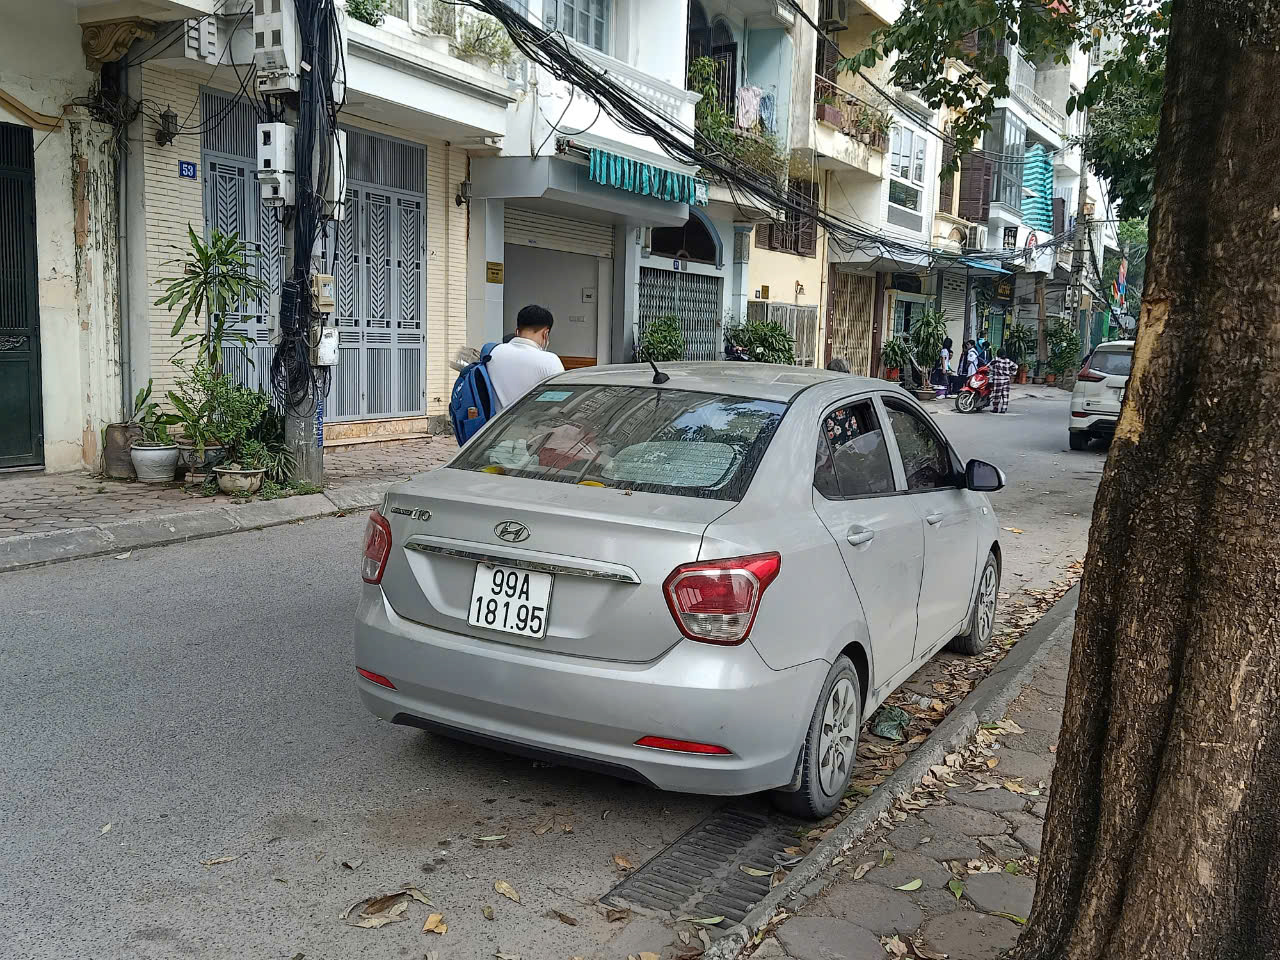bien_so: (469, 563, 553, 641)
